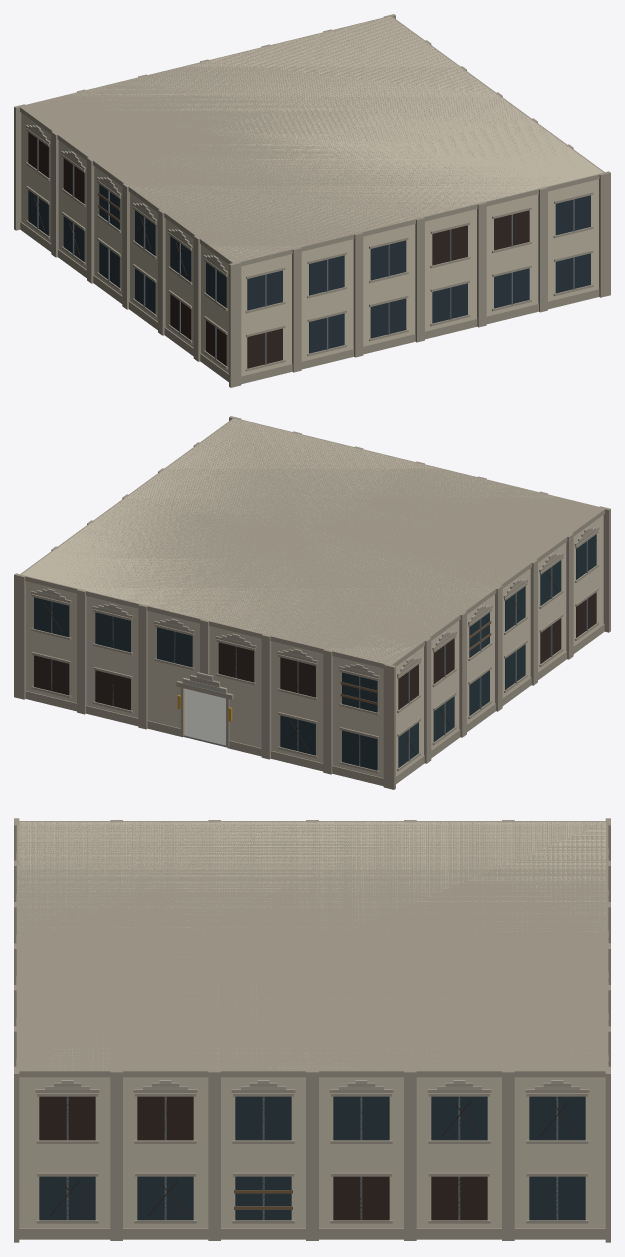
File: tw_deco_24_base.glb
3 views of the same model, one above another, from view 1: azimuth 30°, elevation 25°; view 2: azimuth 150°, elevation 25°; view 3: azimuth 270°, elevation 25° (orthographic). The views are drawn at different scales.
Parts seen in each view (by area): view 1: tw_deco_24_base; view 2: tw_deco_24_base; view 3: tw_deco_24_base.
Part boxes in pixels (bbox=[...]): tw_deco_24_base: bbox=[14, 14, 610, 387]; tw_deco_24_base: bbox=[14, 416, 610, 789]; tw_deco_24_base: bbox=[14, 818, 610, 1242].
Size of what is drawn, in the model's own units: 24.68 by 7.6 by 24.38.
Materials: 2 (2 with a texture image).
